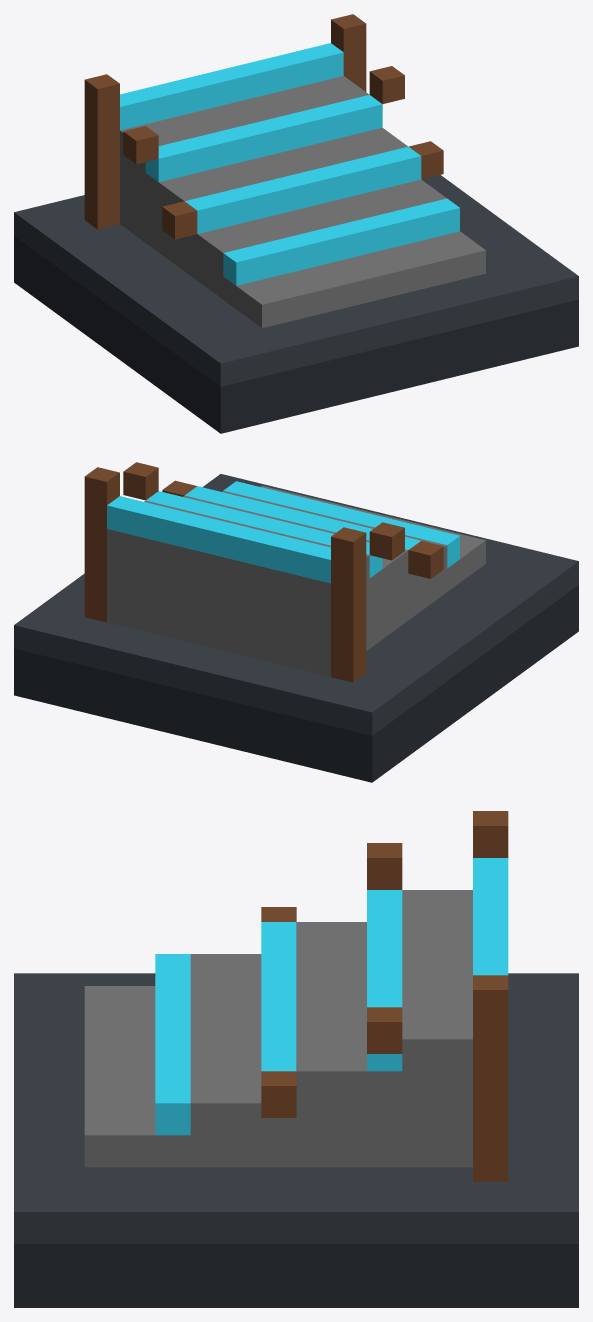
Rendered from tile_stairs_down.glb.
3 renders of one model, top to bottom at view 1: azimuth 30°, elevation 25°; view 2: azimuth 150°, elevation 25°; view 3: azimuth 270°, elevation 25°, orthographic. The views are drawn at different scales.
Visible parts, largest first — view 1: Top mesh, Step mesh, Edge mesh, Base mesh, Rail mesh; view 2: Top mesh, Step mesh, Base mesh, Edge mesh, Rail mesh; view 3: Step mesh, Top mesh, Base mesh, Edge mesh, Rail mesh.
Part boxes in pixels (left/top/right/bottom): Top mesh: left=14, top=175, right=578, bottom=386; Step mesh: left=120, top=76, right=485, bottom=328; Edge mesh: left=120, top=43, right=459, bottom=285; Base mesh: left=14, top=236, right=578, bottom=433; Rail mesh: left=84, top=14, right=443, bottom=239; Top mesh: left=14, top=474, right=578, bottom=735; Step mesh: left=107, top=485, right=485, bottom=676; Base mesh: left=14, top=585, right=578, bottom=782; Edge mesh: left=107, top=481, right=459, bottom=583; Rail mesh: left=84, top=462, right=443, bottom=682; Step mesh: left=84, top=890, right=472, bottom=1167; Top mesh: left=14, top=973, right=578, bottom=1243; Base mesh: left=14, top=1244, right=578, bottom=1307; Edge mesh: left=155, top=858, right=508, bottom=1135; Rail mesh: left=261, top=811, right=508, bottom=1181.
Bounding box in the file's own units: 16 × 9 × 16.
Materials: 1 (1 with a texture image).
